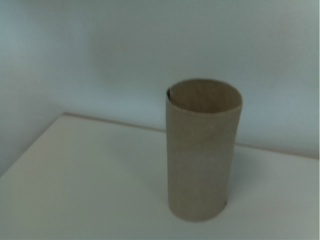rollo papel: (162, 76, 246, 224)
